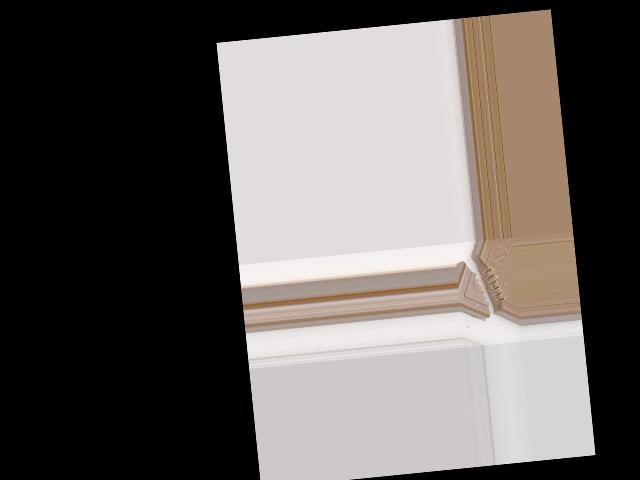chocolate: (453, 238, 519, 332)
